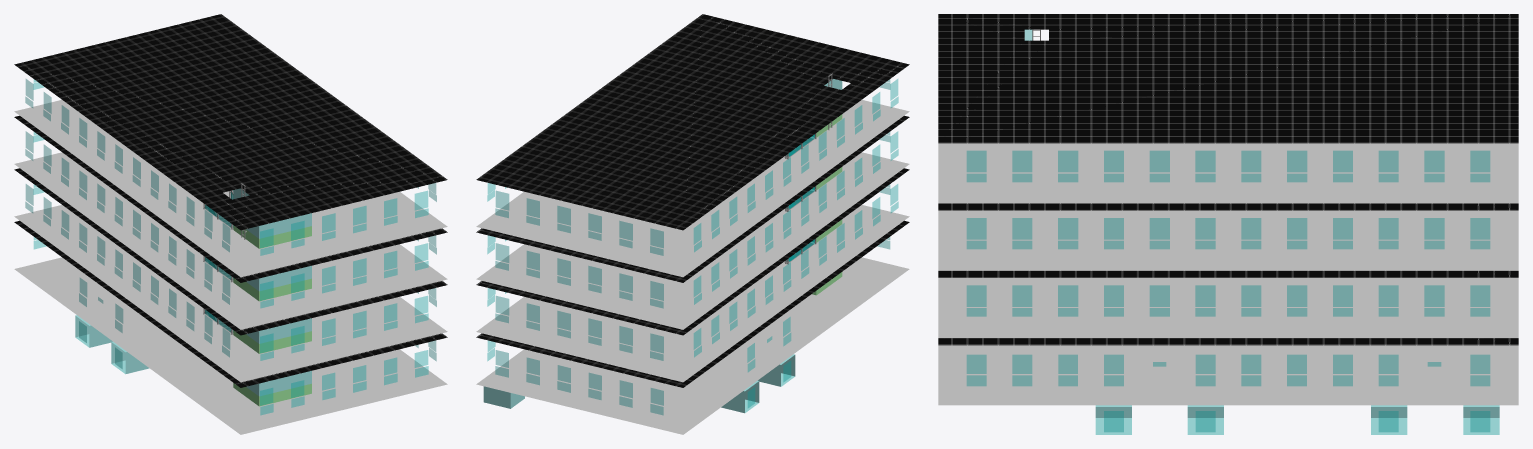
The model's file is SM_Building09_V2_Interior.fbx.
The picture shows the model from 3 angles, left to right: view 1: azimuth 30°, elevation 25°; view 2: azimuth 150°, elevation 25°; view 3: azimuth 270°, elevation 25°; orthographic projection. The views are drawn at different scales.
Parts seen in each view (by area): view 1: SM_Building09_V2_Interior; view 2: SM_Building09_V2_Interior; view 3: SM_Building09_V2_Interior.
Boxes of the visible parts, x1,y1,x2,y2 form: SM_Building09_V2_Interior: (14,14,447,434); SM_Building09_V2_Interior: (476,14,909,434); SM_Building09_V2_Interior: (938,14,1518,434).
Size of the model in its own units: 1675 by 1817 by 3170.
